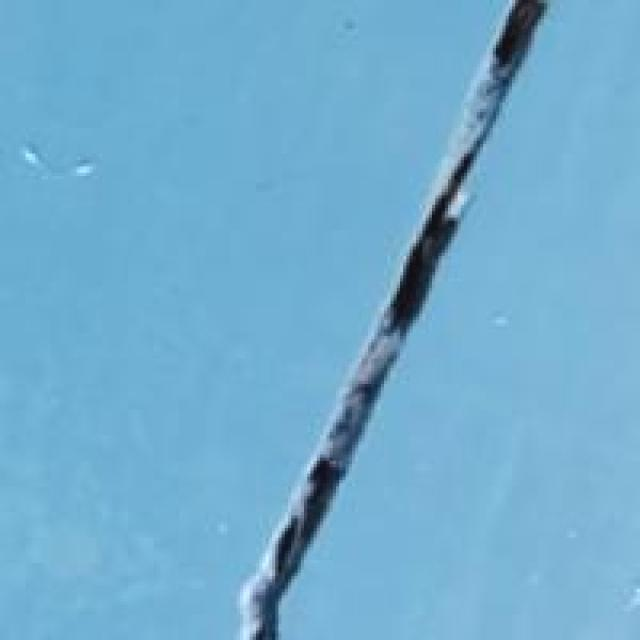crack: (226, 0, 566, 640)
